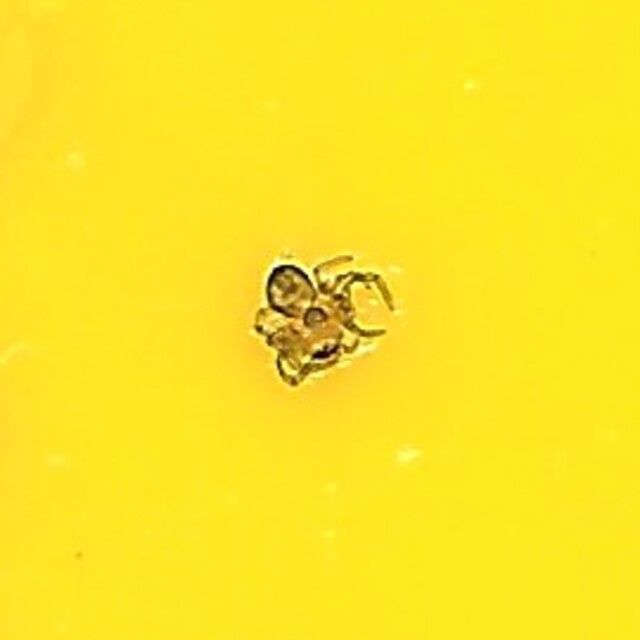Araneae: (237, 239, 403, 401)
